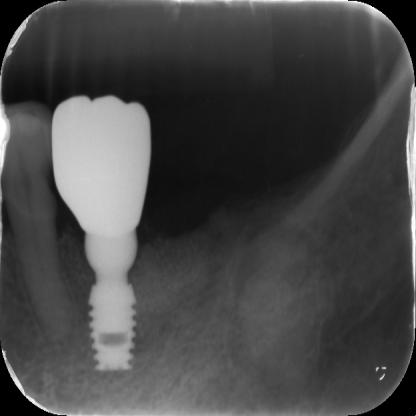Bicon: (79, 276, 144, 376)
